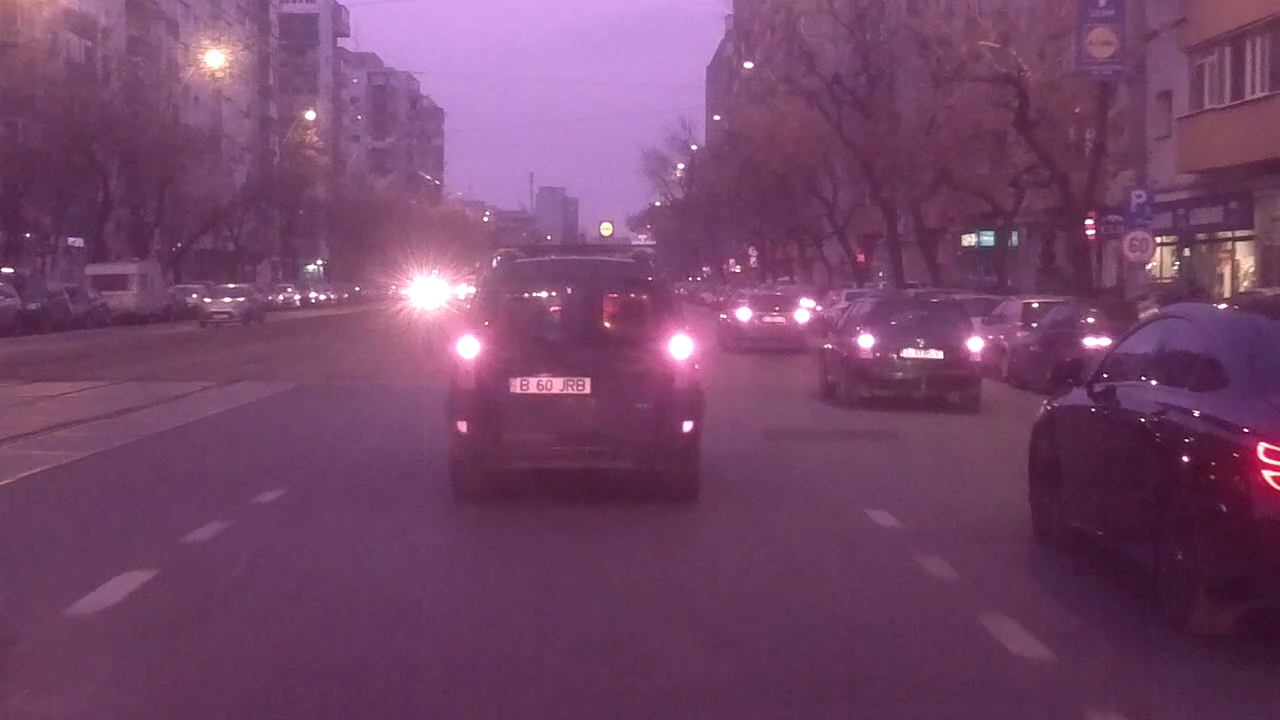license-plate: (506, 373, 595, 397)
